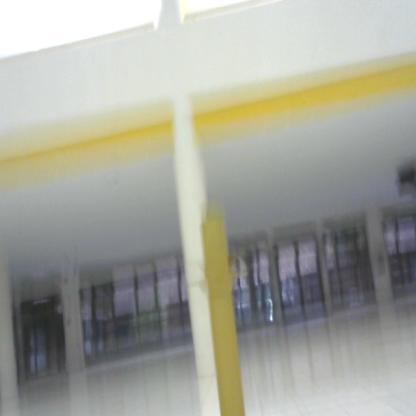pole: (192, 213, 262, 416)
